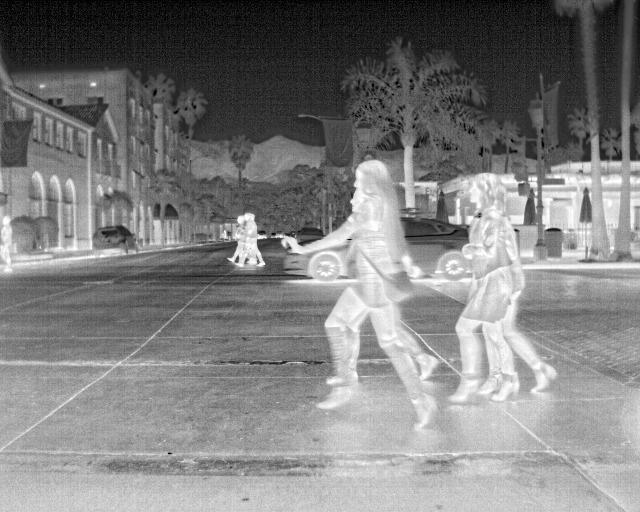bicycle: (401, 217, 472, 282), (284, 241, 350, 281), (88, 225, 138, 256), (294, 225, 326, 248)
empty: (278, 159, 443, 429), (448, 172, 512, 407), (237, 211, 268, 271), (226, 213, 247, 264), (0, 214, 15, 269)
